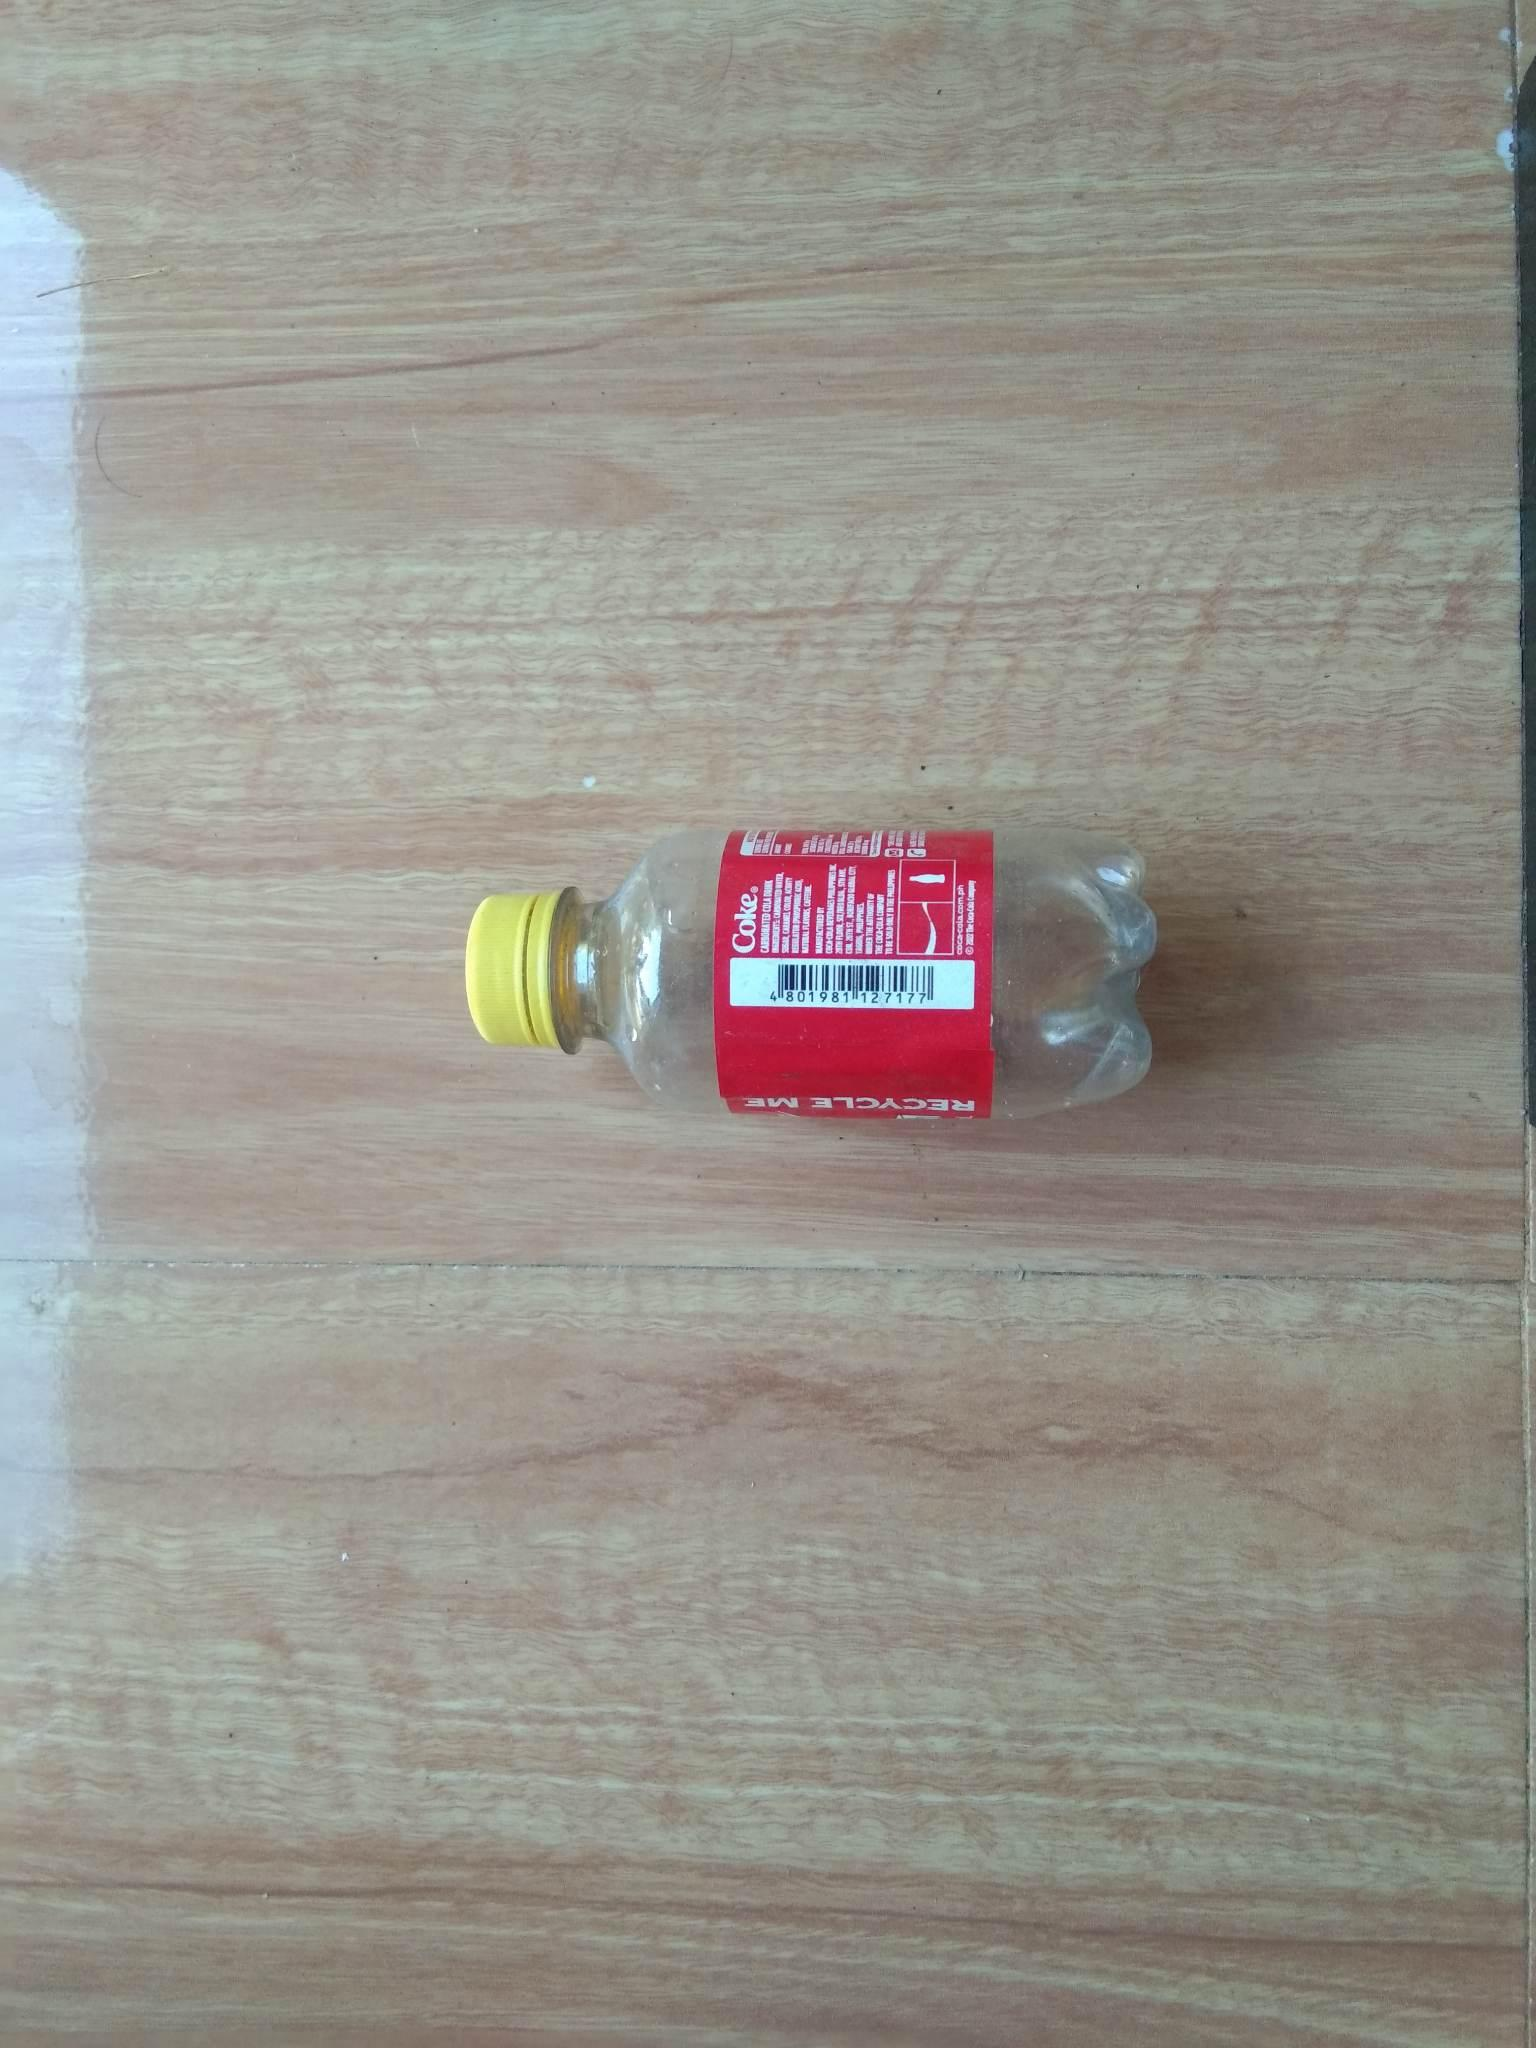plastic: (302, 692, 1247, 1214)
